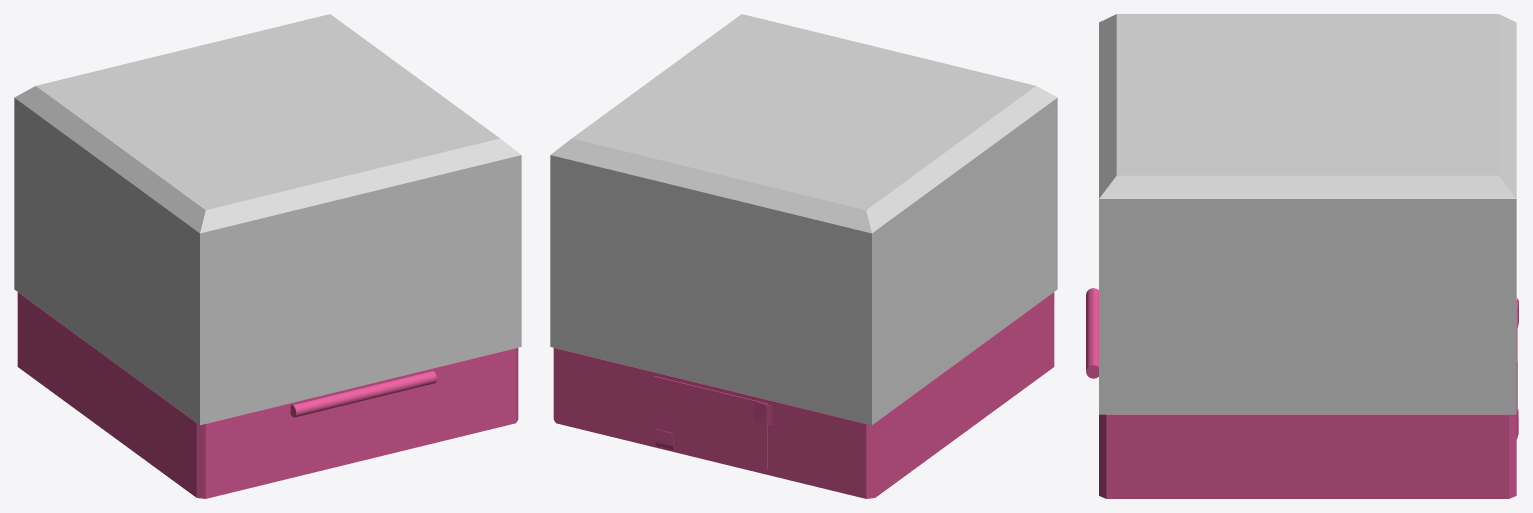
The model's file is przycisk.fbx.
3 renders of one model, left to right at view 1: azimuth 30°, elevation 25°; view 2: azimuth 150°, elevation 25°; view 3: azimuth 270°, elevation 25°, orthographic. The views are drawn at different scales.
Parts seen in each view (by area): view 1: szkło, baza; view 2: szkło, baza; view 3: szkło, baza.
Boxes of the visible parts, x1,y1,x2,y2 form: szkło: (14,14,521,425); baza: (17,292,518,498); szkło: (550,14,1057,425); baza: (553,292,1054,498); szkło: (1099,14,1516,414); baza: (1086,288,1518,498).
Size of the model in its own units: 2 by 1.67 by 2.07.
